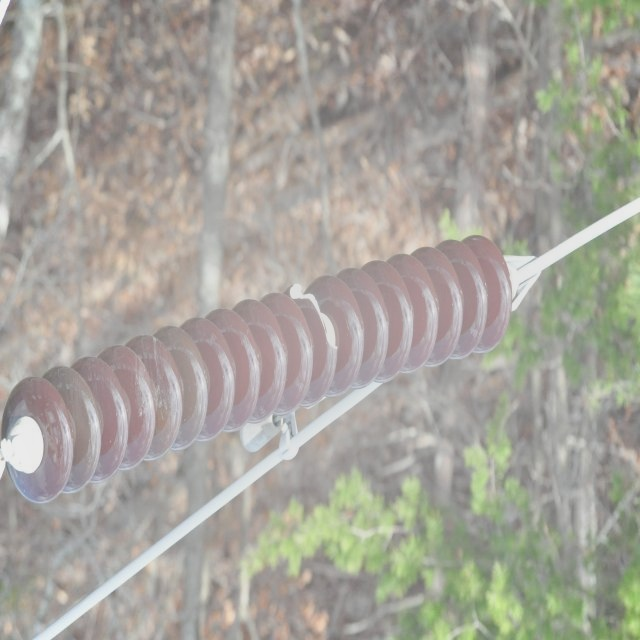broken: (290, 279, 340, 352)
insulator: (6, 235, 512, 500)
